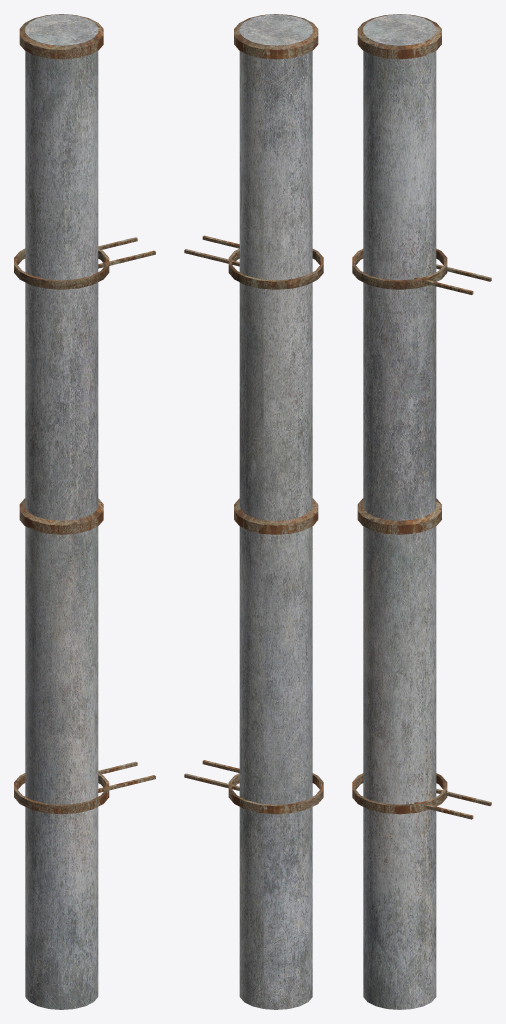
The model's file is pipe.FBX.
3 views of the same model, side by side, from view 1: azimuth 30°, elevation 25°; view 2: azimuth 150°, elevation 25°; view 3: azimuth 330°, elevation 25° (orthographic).
Visible parts, largest first — view 1: pipe; view 2: pipe; view 3: pipe.
Boxes of the visible parts, <box> form: pipe: <box>14,14,155,1009</box>; pipe: <box>184,14,323,1009</box>; pipe: <box>352,14,491,1009</box>.
Bounding box in the file's own units: 5.43 × 40 × 3.58.
Materials: 2 (2 with a texture image).
